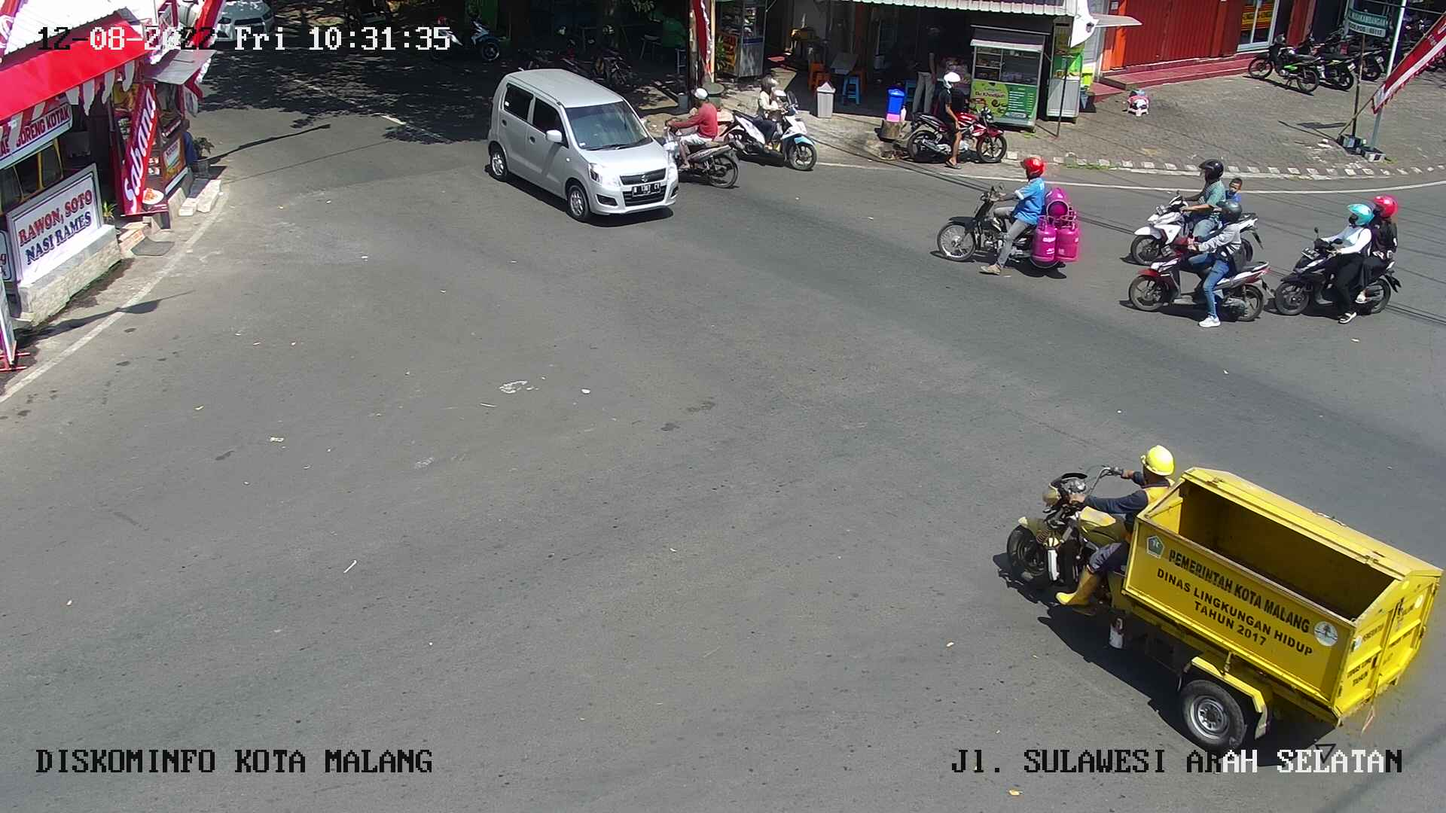with_helmet: (932, 147, 1085, 287), (1269, 192, 1409, 339), (1131, 200, 1254, 337), (1123, 119, 1226, 255), (724, 64, 836, 177), (678, 78, 739, 191)
